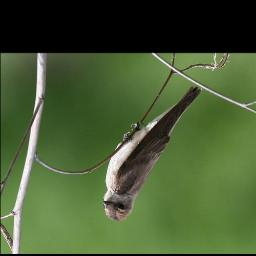Swallow: (102, 84, 205, 223)
